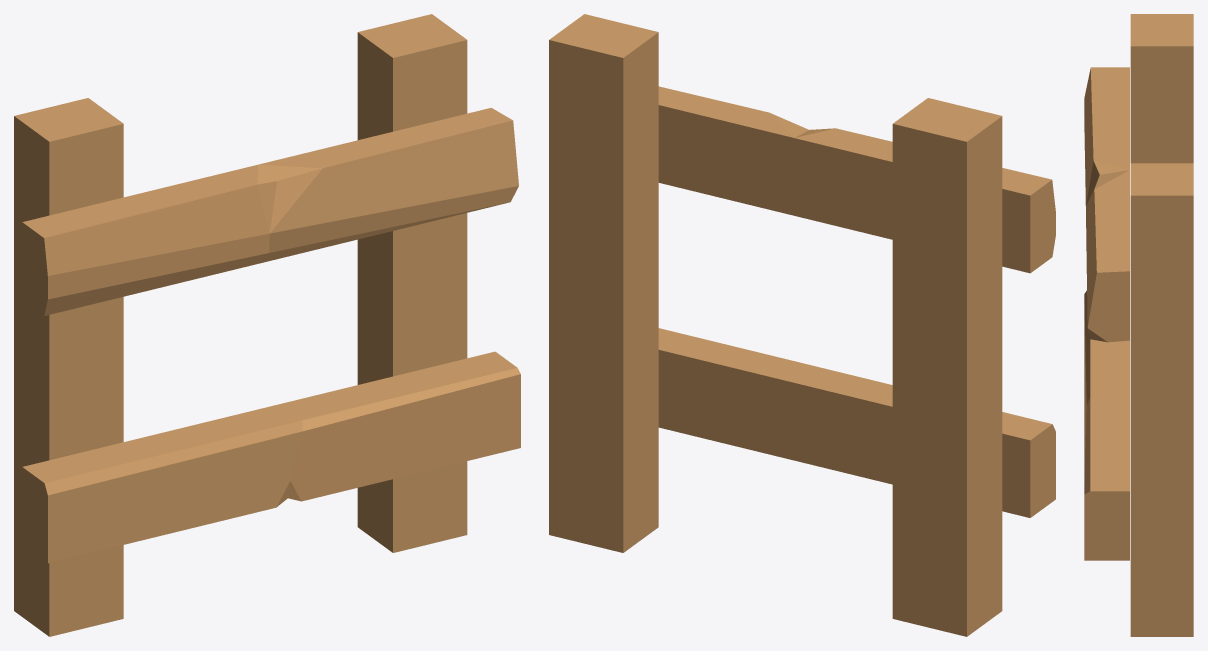
The model's file is ladder_comp_2.fbx.
3 views of the same model, side by side, from view 1: azimuth 30°, elevation 25°; view 2: azimuth 150°, elevation 25°; view 3: azimuth 270°, elevation 25° (orthographic). The views are drawn at different scales.
Visible parts, largest first — view 1: ladder_comp_2; view 2: ladder_comp_2; view 3: ladder_comp_2.
Part boxes in pixels (<box>): ladder_comp_2: <box>14,14,520,636</box>; ladder_comp_2: <box>549,14,1055,636</box>; ladder_comp_2: <box>1084,14,1193,636</box>.
Size of the model in its own units: 200 by 200 by 44.97.
